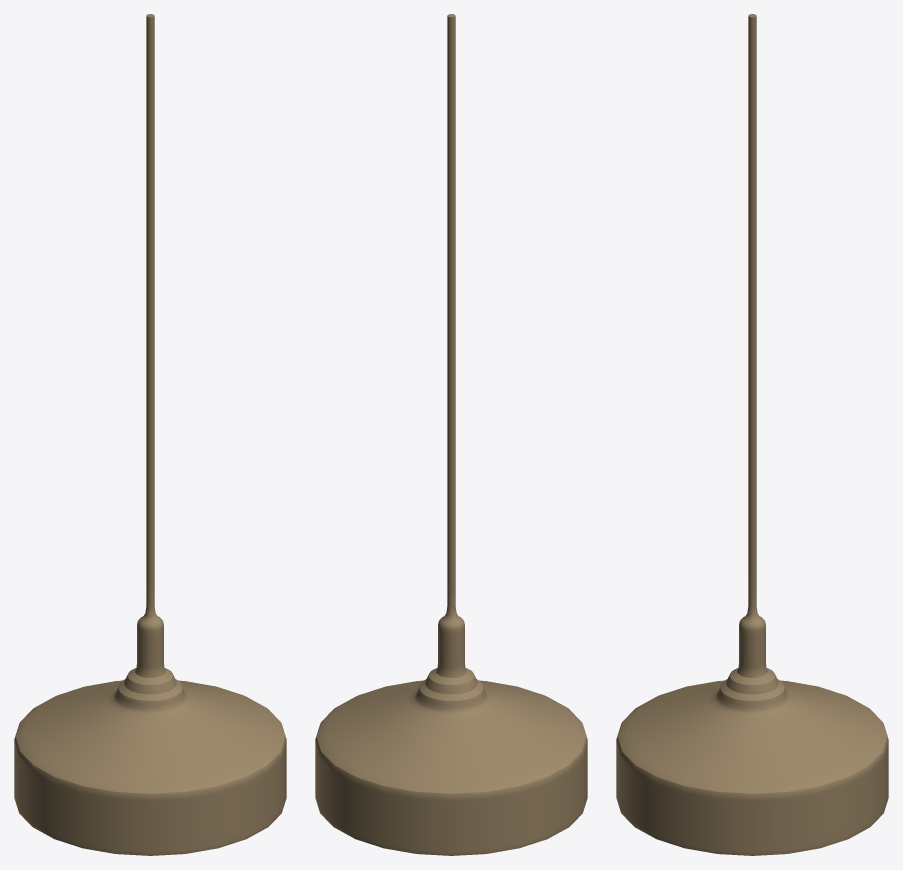
The model's file is BarCounterLamp.fbx.
3 renders of one model, left to right at view 1: azimuth 30°, elevation 25°; view 2: azimuth 150°, elevation 25°; view 3: azimuth 270°, elevation 25°, orthographic.
Parts seen in each view (by area): view 1: BarCounterLamp; view 2: BarCounterLamp; view 3: BarCounterLamp.
Part boxes in pixels (x1,y1,x2,y2): BarCounterLamp: (14, 14, 286, 855); BarCounterLamp: (315, 14, 587, 855); BarCounterLamp: (616, 14, 888, 855).
Size of the model in its own units: 38.21 by 125 by 38.21.
